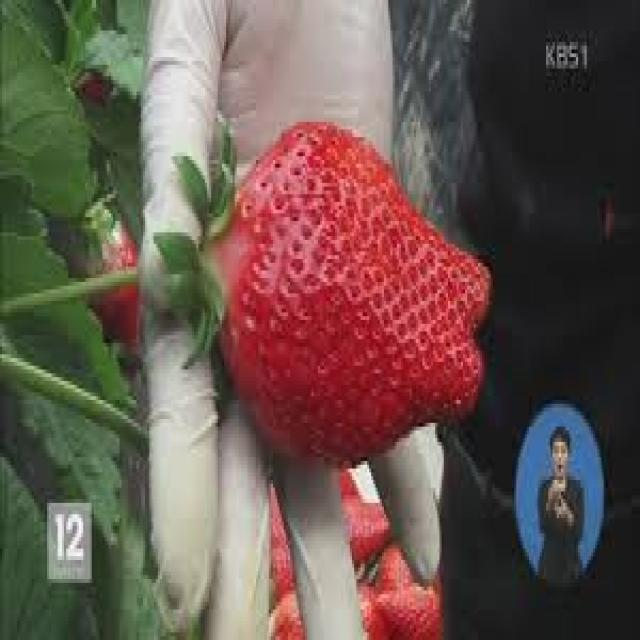Strawberry: (211, 118, 494, 465)
